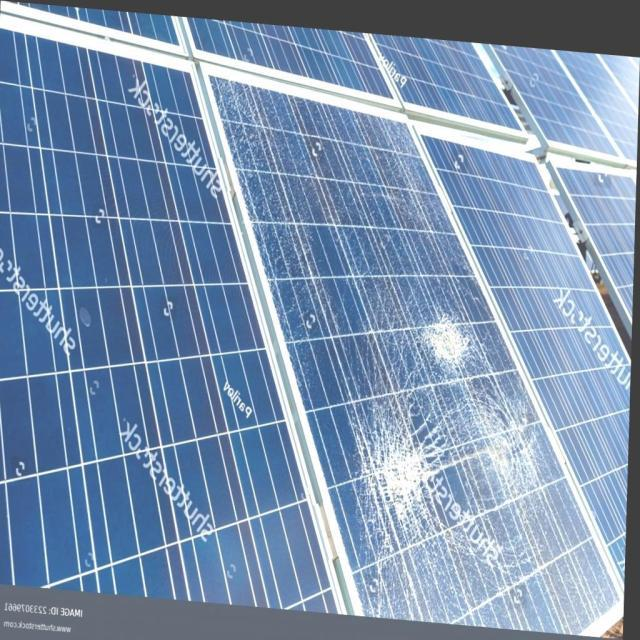cracked: (208, 67, 624, 637)
